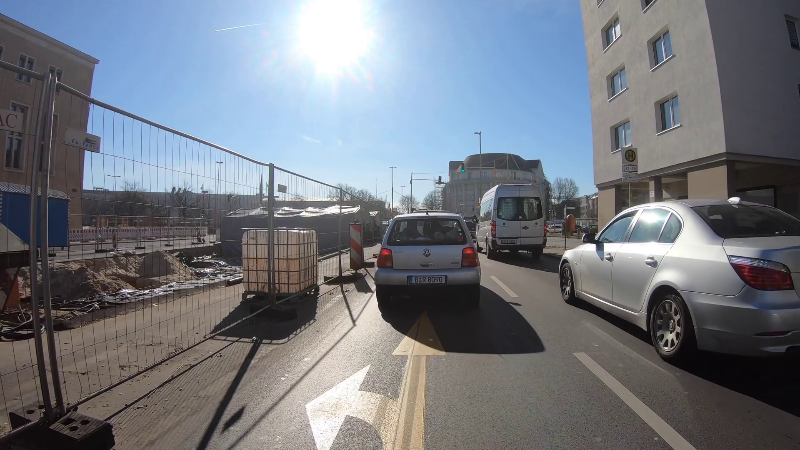Plate: (407, 273, 447, 284)
